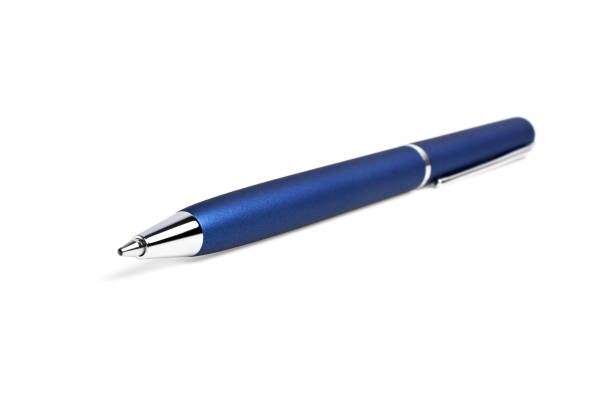pen: (112, 113, 549, 282)
